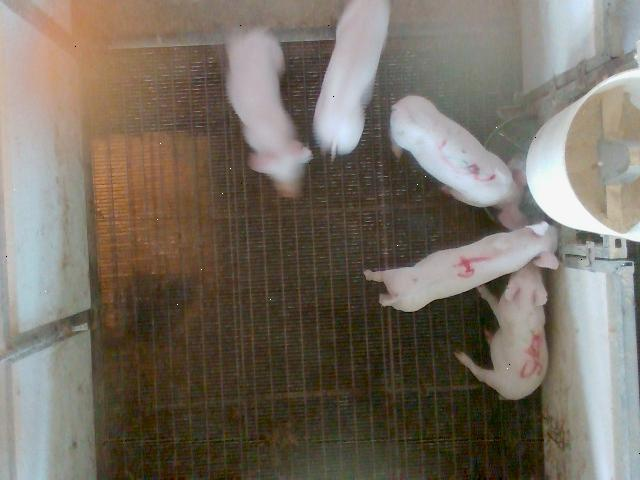pig-3: (390, 97, 528, 228)
pig-4: (364, 222, 556, 311)
pig-5: (455, 263, 548, 400)
